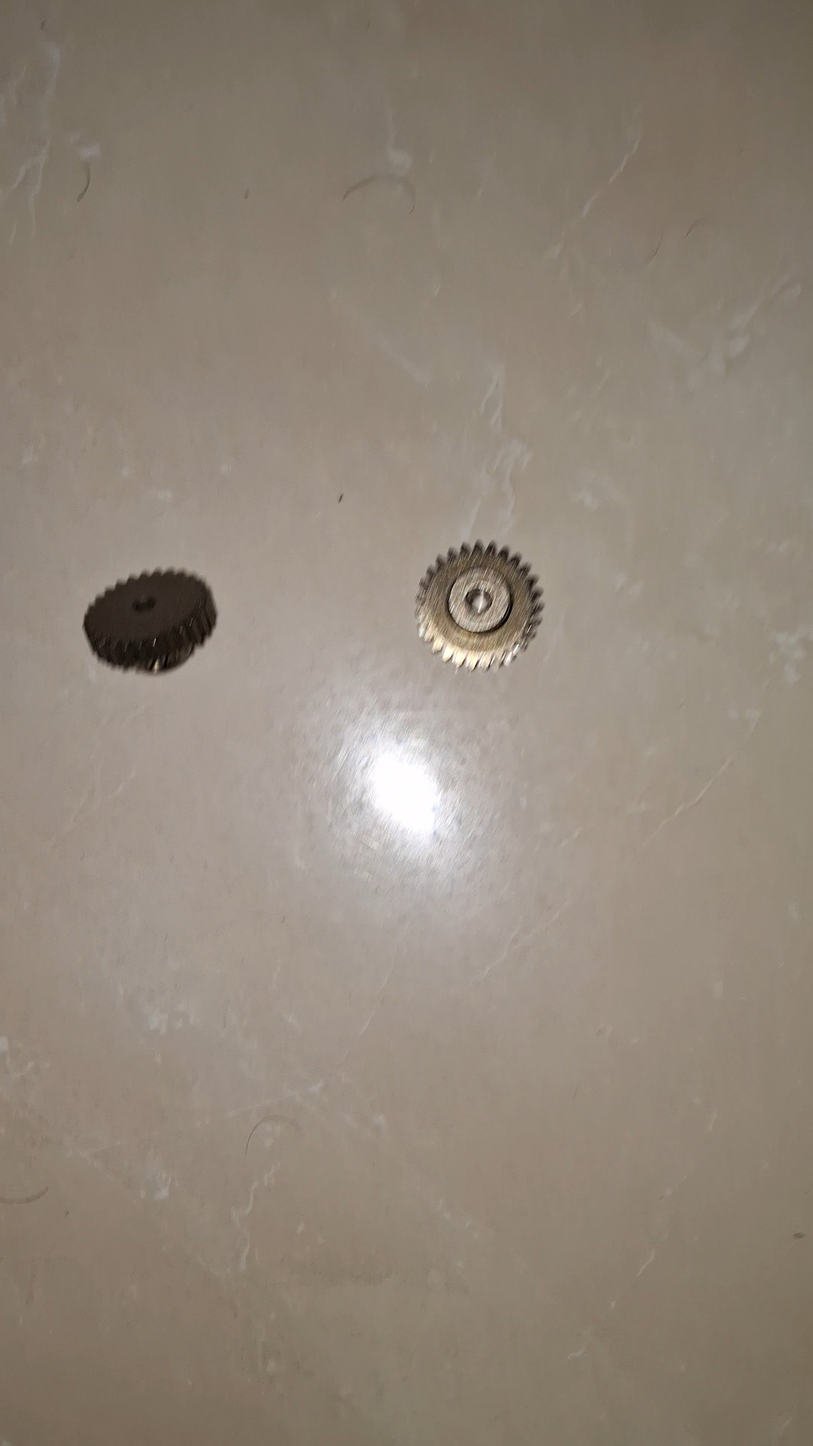spur gear: (416, 541, 542, 669), (84, 572, 216, 672)
